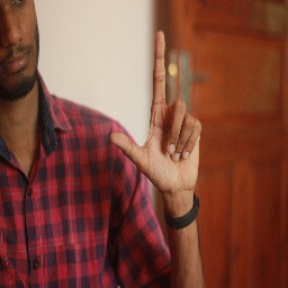L: (113, 31, 204, 192)
